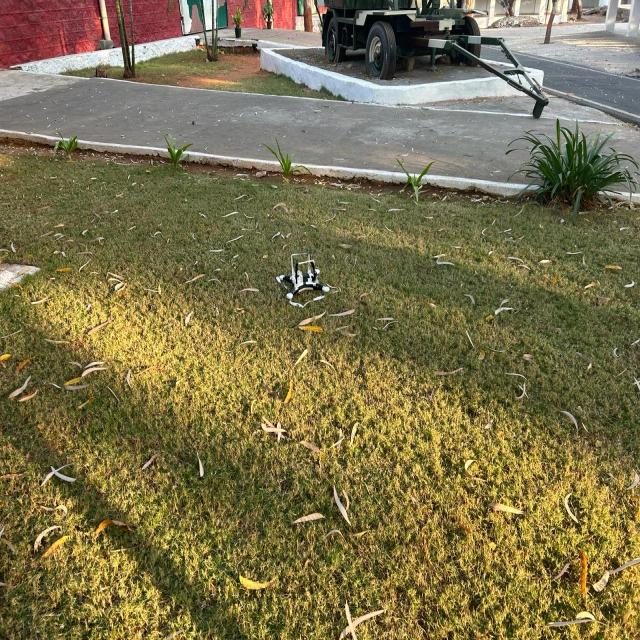drone: (269, 247, 349, 306)
